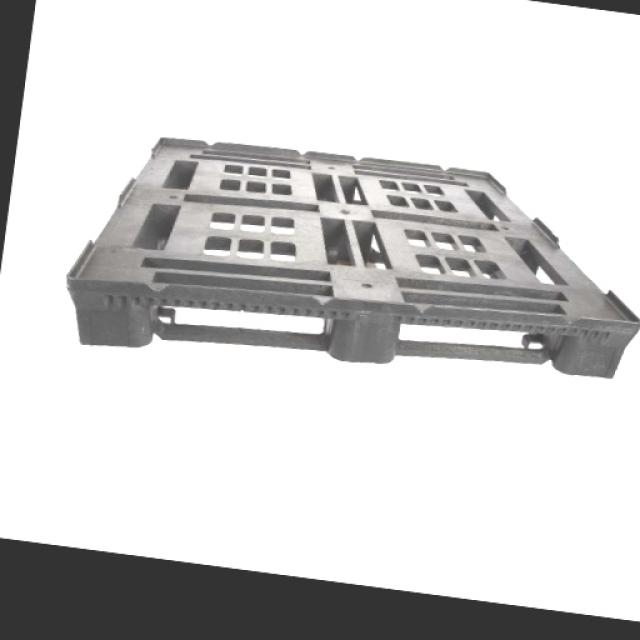non-igps: (57, 131, 640, 388)
